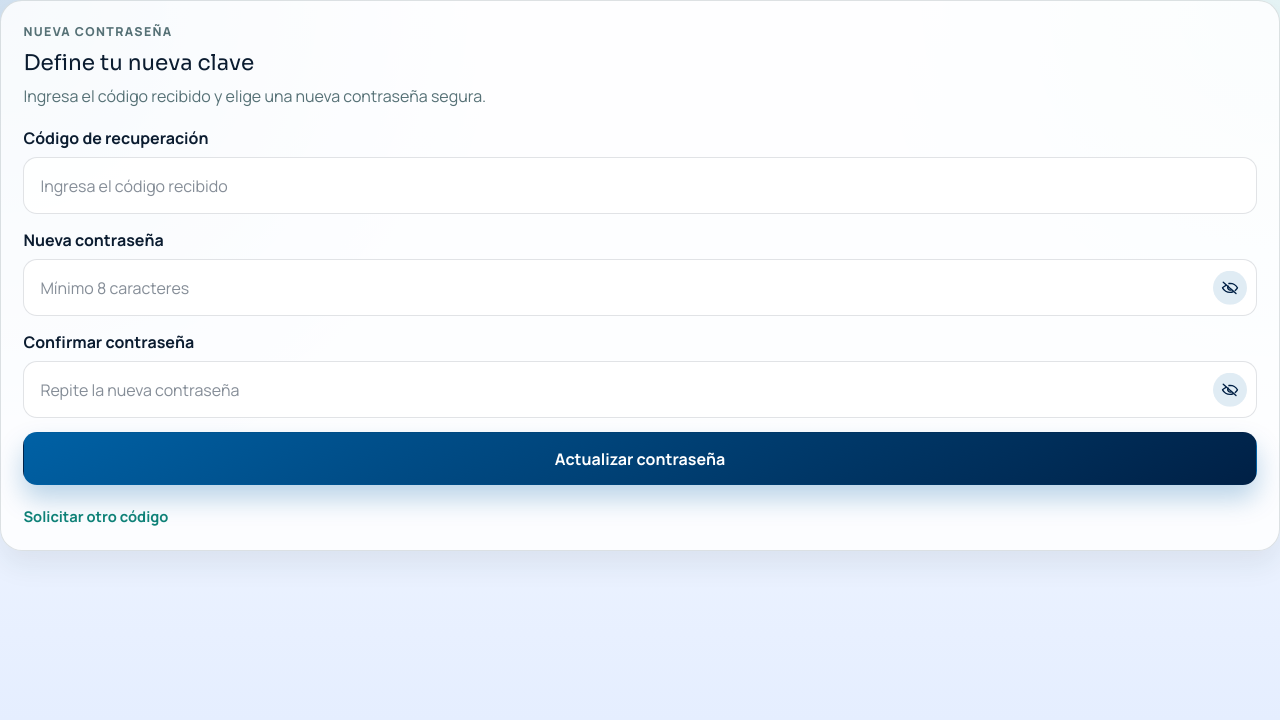
Scenario: ResetPasswordForm › shows password strength feedback and lets the user reveal the new password
Type "Password123" into the password field labelled "Nueva contraseña". click: {"x": 640, "y": 288}
box: [23,259,1257,316]
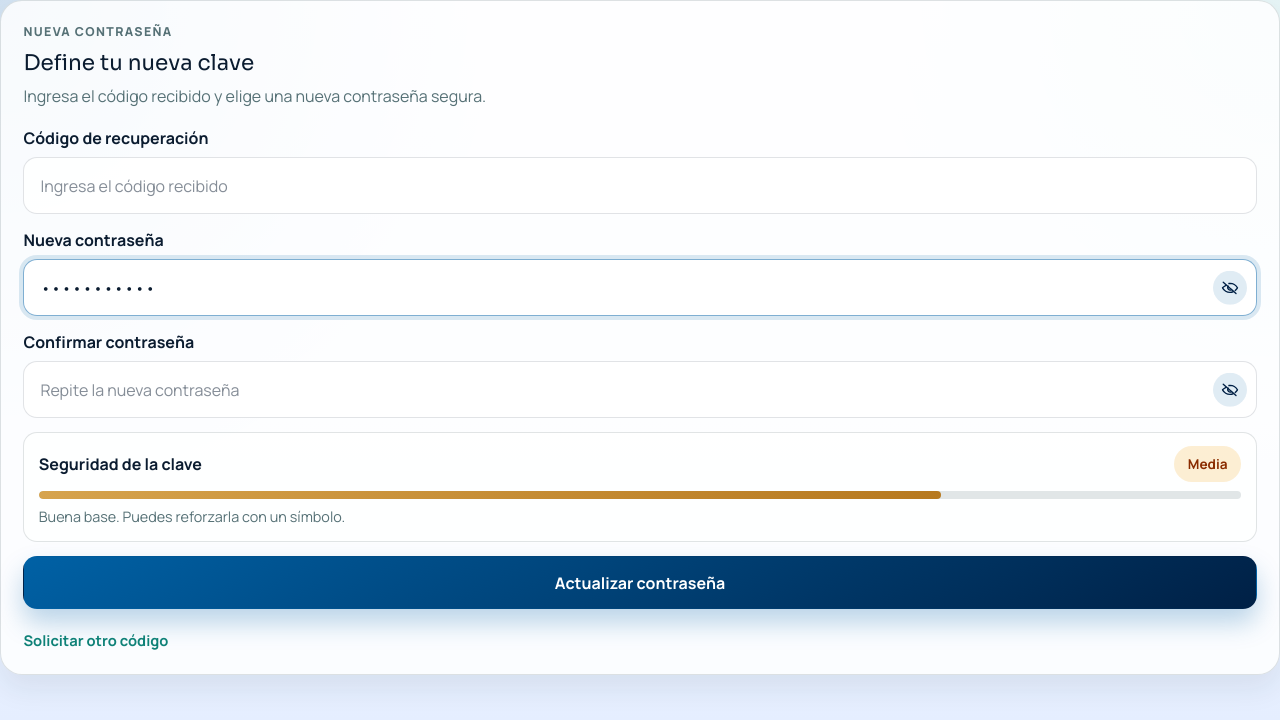
Expected: the text "Media" is shown, [1174,446,1241,482]
Expected: the text "Buena base. Puedes reforzarla con un símbolo." is shown, [39,507,345,526]
Click the button named "Mostrar nueva contraseña". click: {"x": 1230, "y": 288}
box: [1213,270,1247,305]
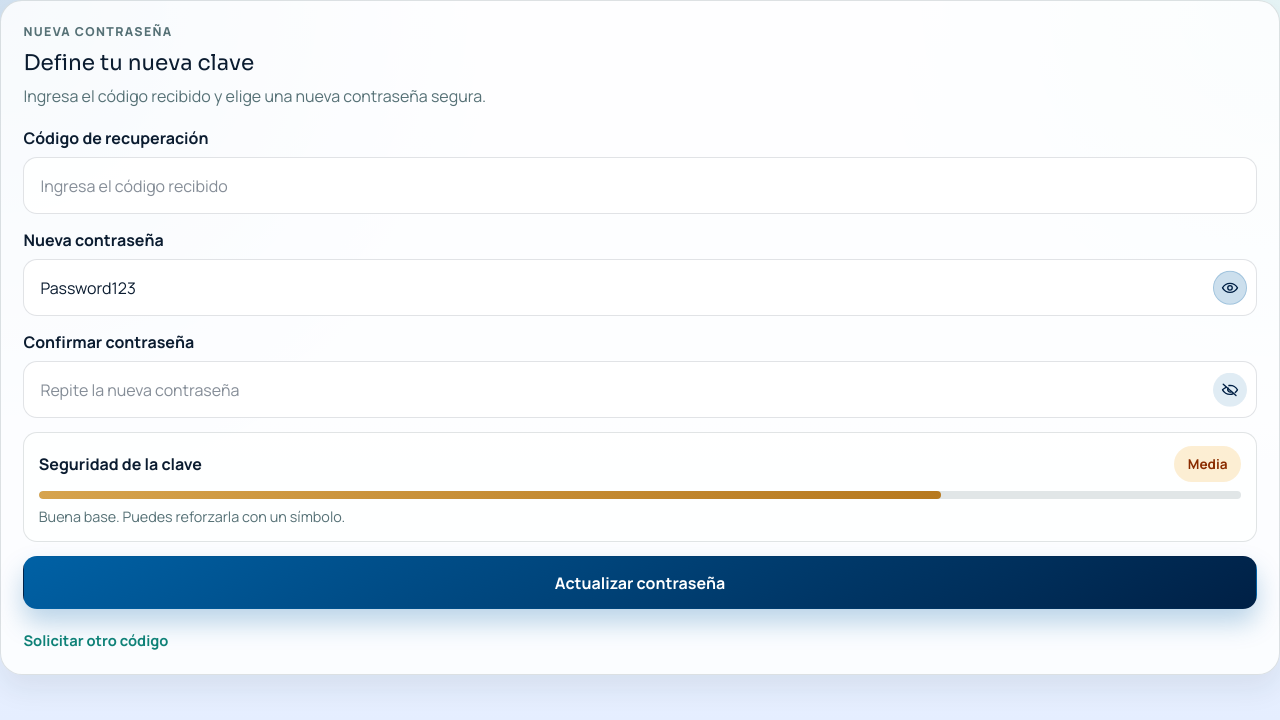
Expected: the field labelled "Nueva contraseña" shows its text, [23,259,1257,316]
